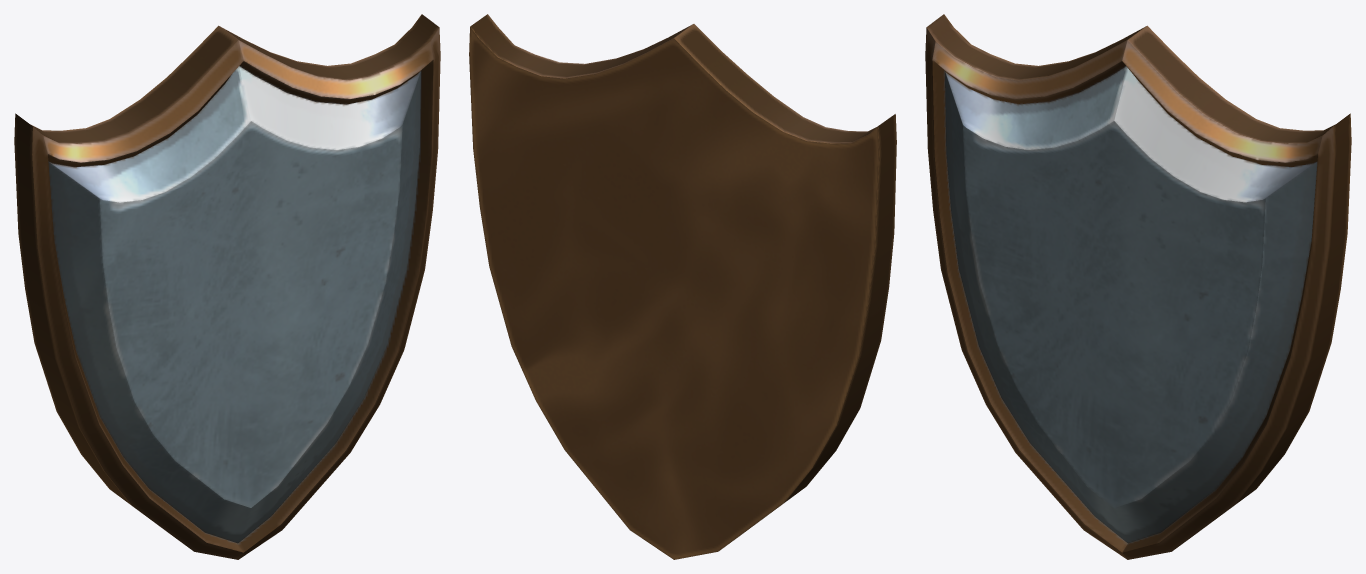
File: Shield.fbx
3 views of the same model, side by side, from view 1: azimuth 30°, elevation 25°; view 2: azimuth 150°, elevation 25°; view 3: azimuth 330°, elevation 25° (orthographic).
Parts seen in each view (by area): view 1: Shield; view 2: Shield; view 3: Shield.
Boxes of the visible parts, x1,y1,x2,y2 form: Shield: (14,14,440,559); Shield: (469,14,896,559); Shield: (925,14,1351,559).
Size of the model in its own units: 0.9998 by 1.22 by 0.1391.
